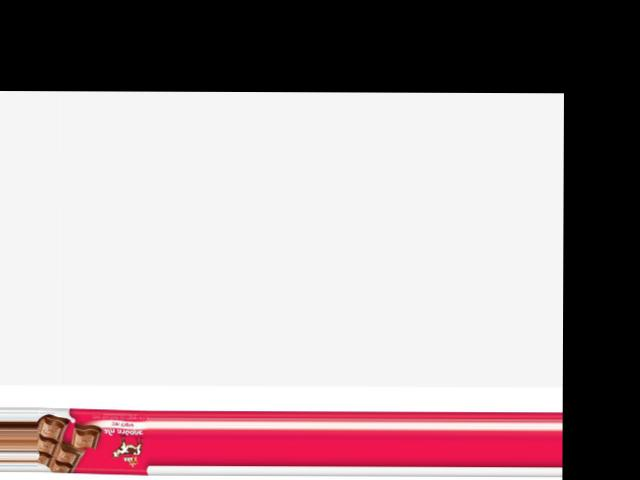chocolate: (38, 409, 149, 474)
